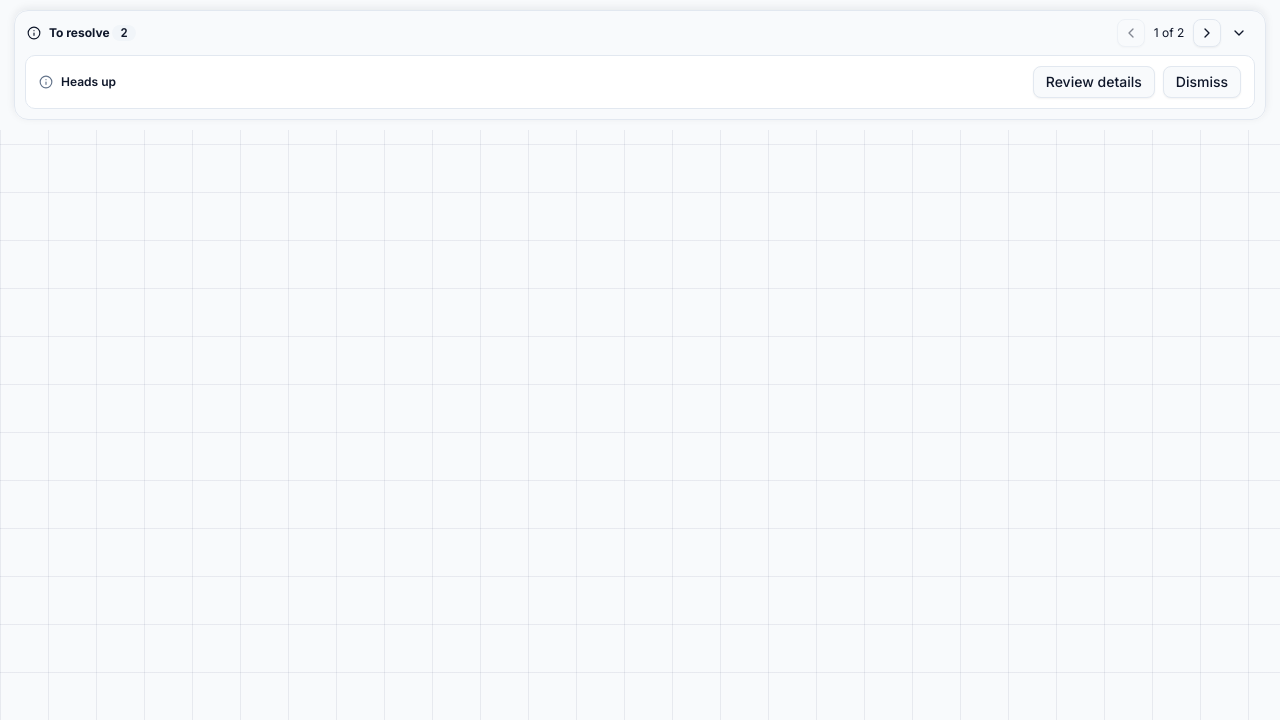
Test case: DocumentResolveTray › keeps Review details beside Dismiss for an opted-in informational alert, and never adds Dismiss to an action card
Check: the button "Review details" is shown, box [1033,66,1155,98]
Check: the button "Dismiss" is shown, box [1163,66,1241,98]
Click the button named "Next issue": (1207, 33) [1193,19,1221,47]
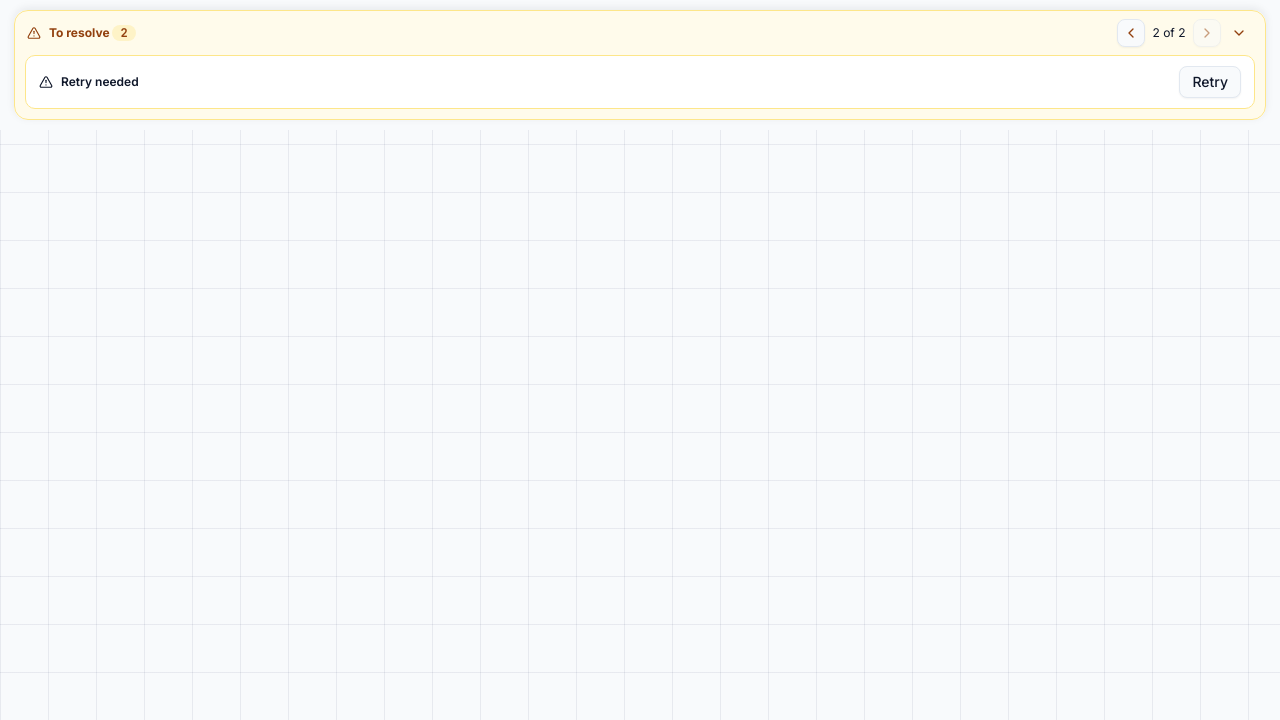
Check: the button "Retry" is shown, box [1179,66,1241,98]
Check: the button "Dismiss" is gone
